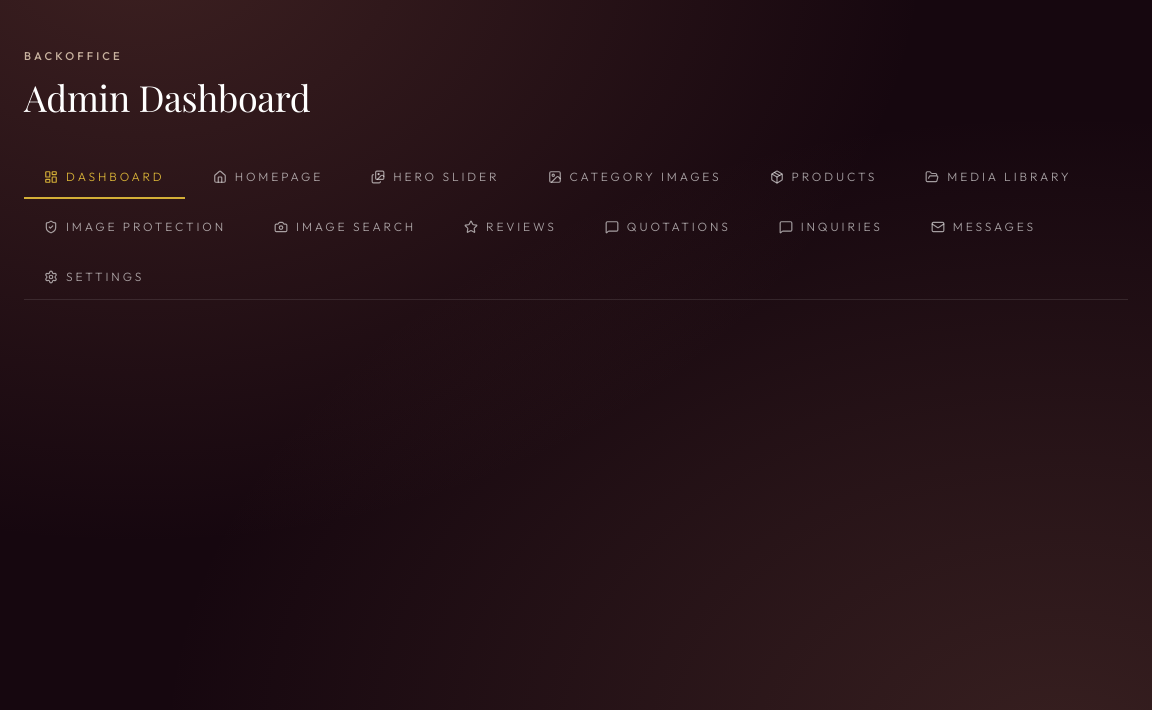
Admin Enquiries — deletion controls › fetch error surfaces a retry UI without crashing
Click the button with test id "admin-tab-inquiries".
click(831, 228)  # box [759,207,903,249]
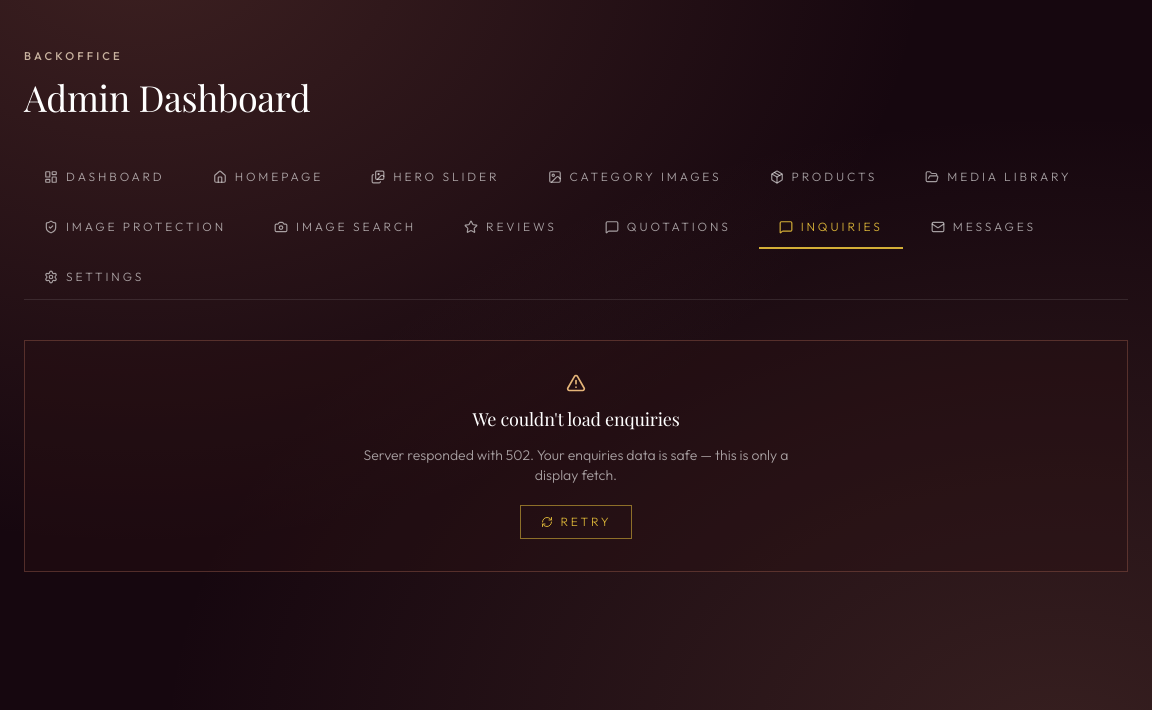
Expected: the message with test id "inq-error" shows "couldn't load", [472,407,680,431]
Expected: the message with test id "inq-error" shows "502", [364,446,530,464]
Expected: the button with test id "inq-retry" is shown
Click the button with test id "inq-retry".
click(576, 522)  # box [520,505,632,539]
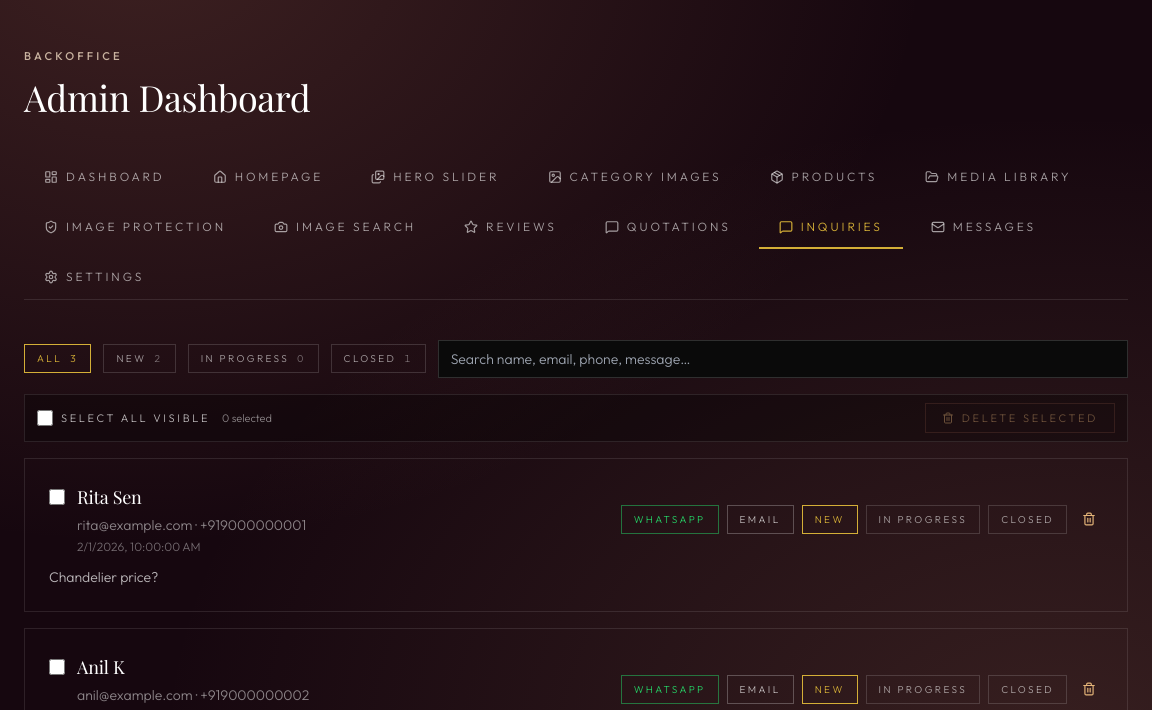
Expected: the element with test id "inq-inq-1" is shown, [24,458,1128,612]
